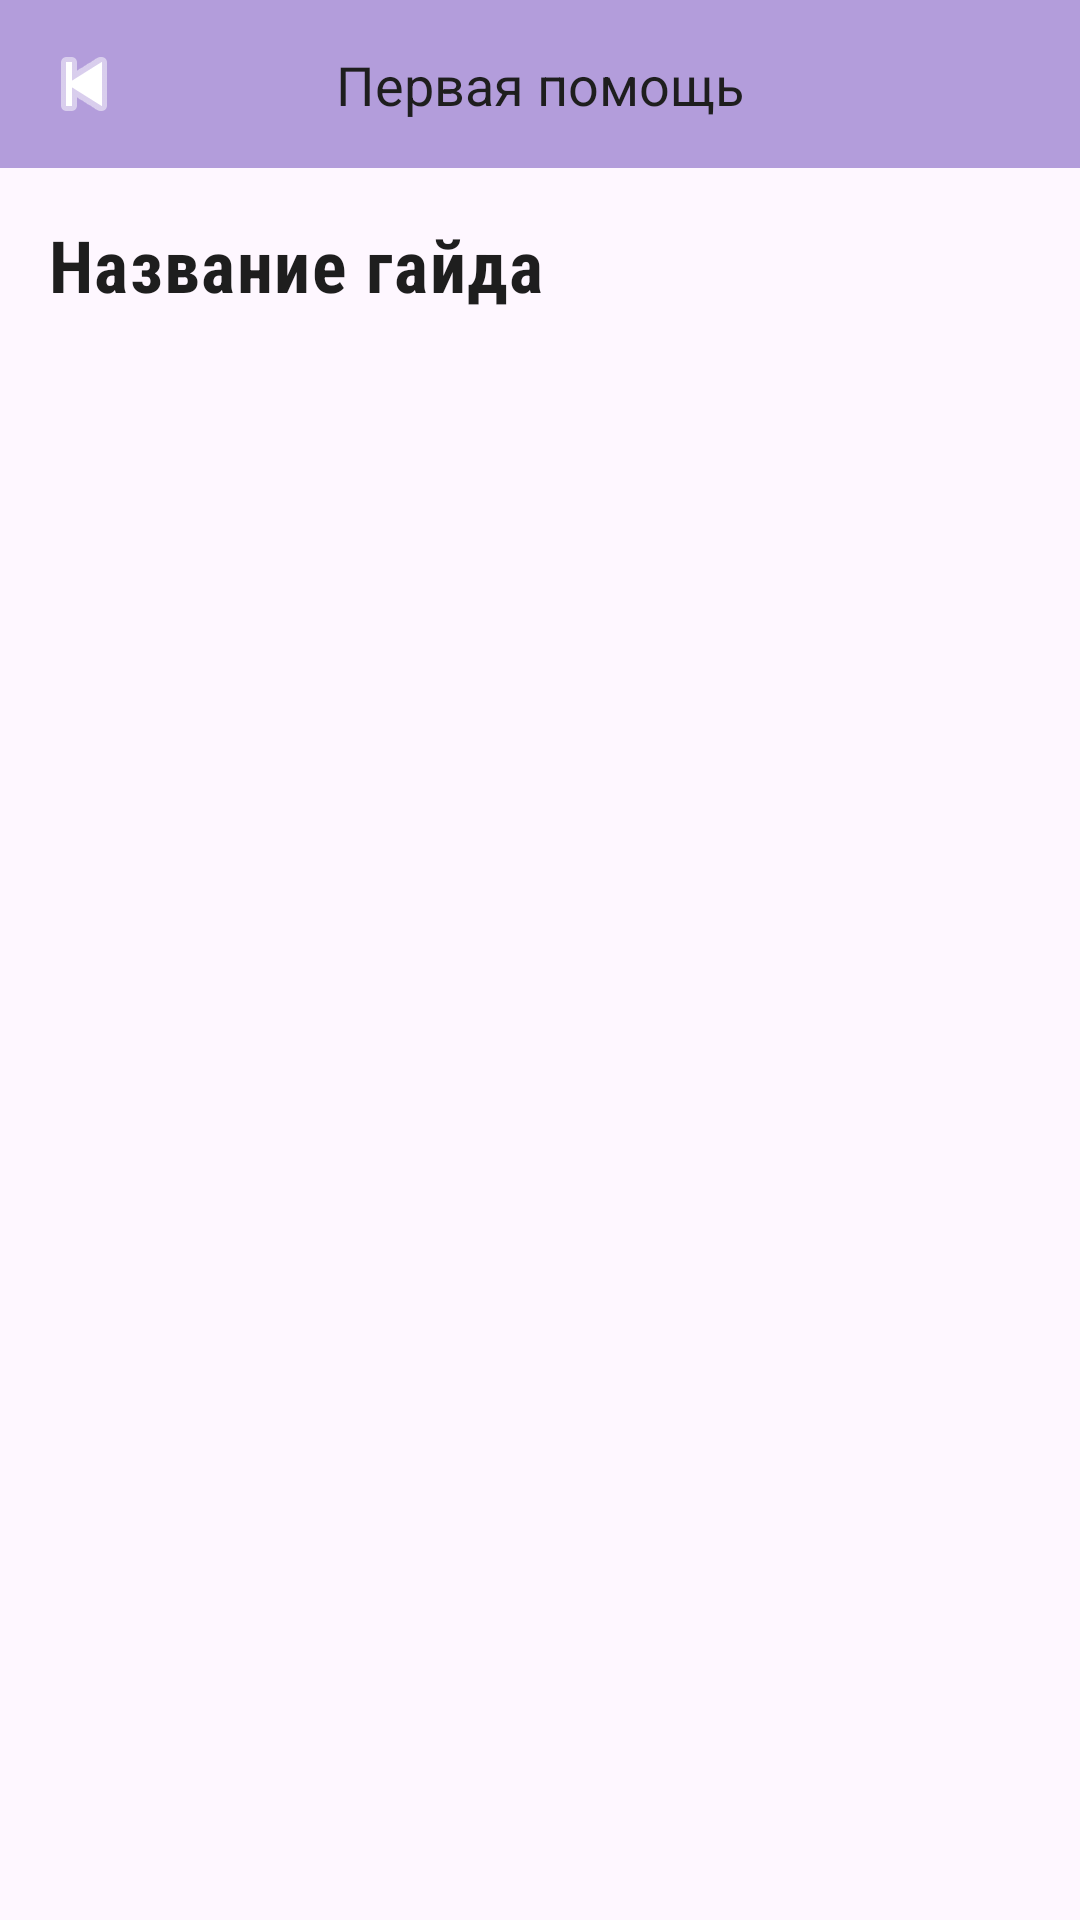

Where icons sit on this 1080×1920 app screen, as detection(x1, y1, x2, y2):
Назад: detection(61, 57, 107, 111)
